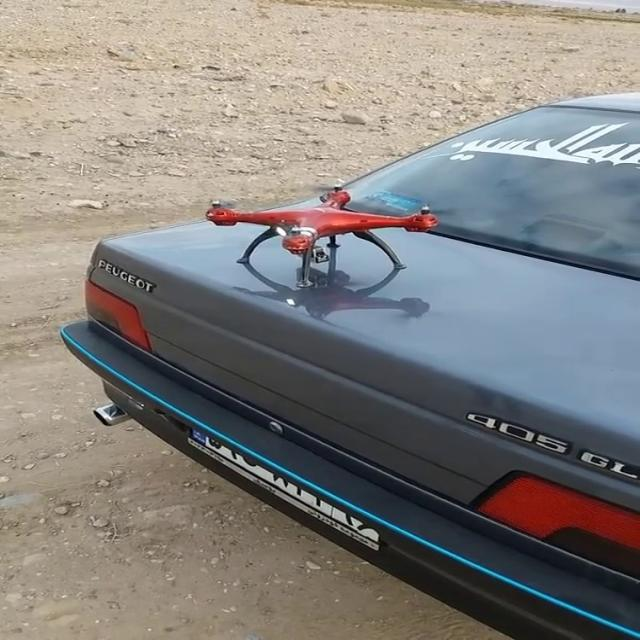drone: (198, 180, 461, 290)
